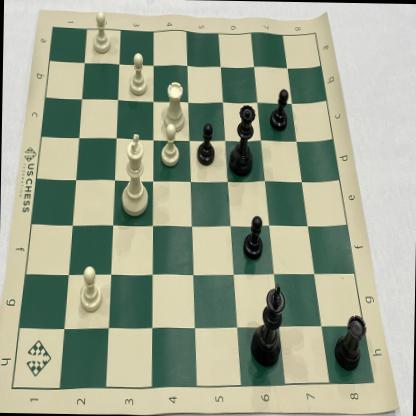king: (248, 280, 286, 372), (118, 130, 152, 220)
pawn: (76, 265, 104, 316), (156, 120, 180, 170), (241, 212, 265, 262), (126, 50, 150, 98), (90, 9, 112, 56), (196, 120, 217, 168), (269, 86, 289, 132)
queen: (228, 100, 257, 180)
rook: (332, 313, 367, 375), (162, 78, 188, 136)
